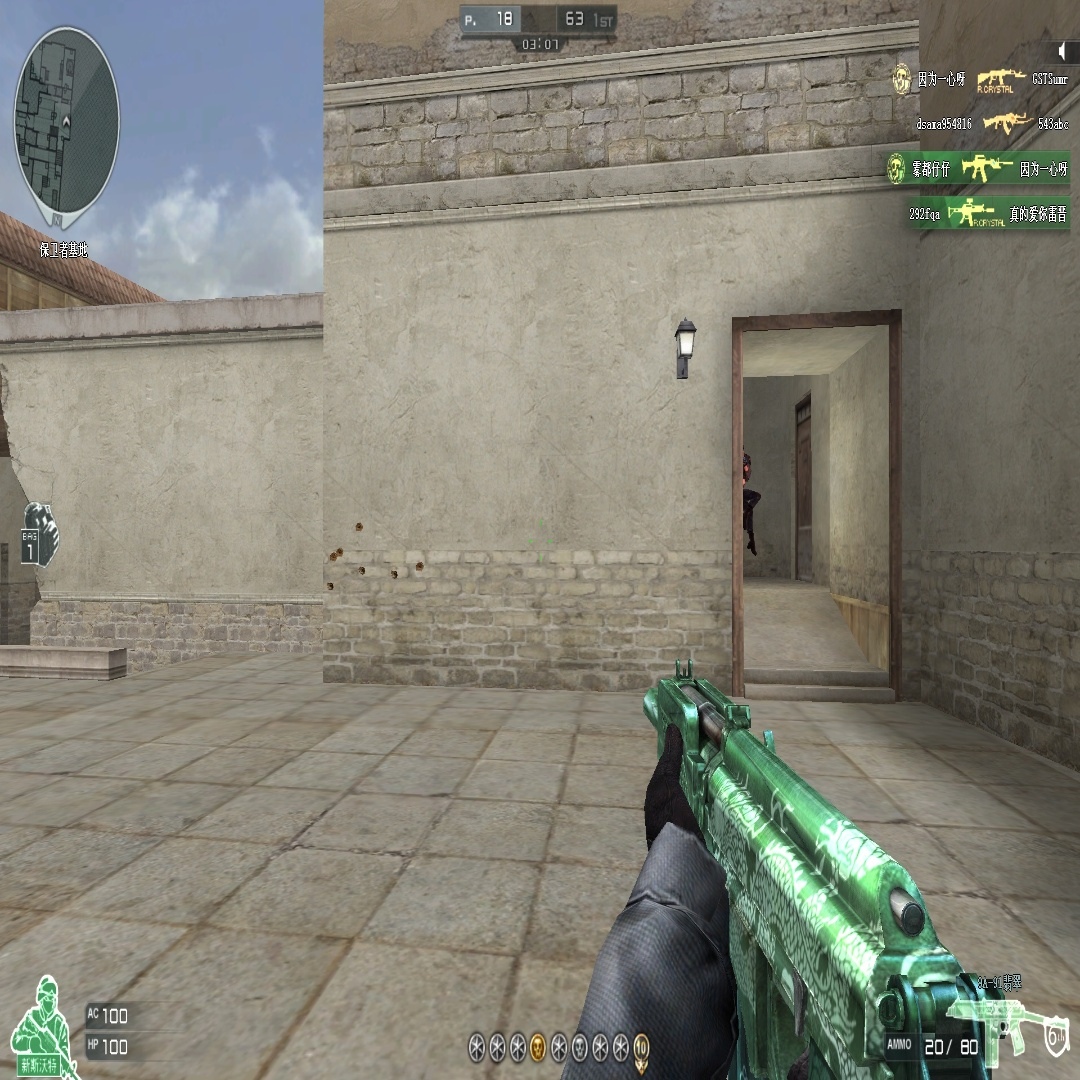p: (742, 452, 760, 556)
